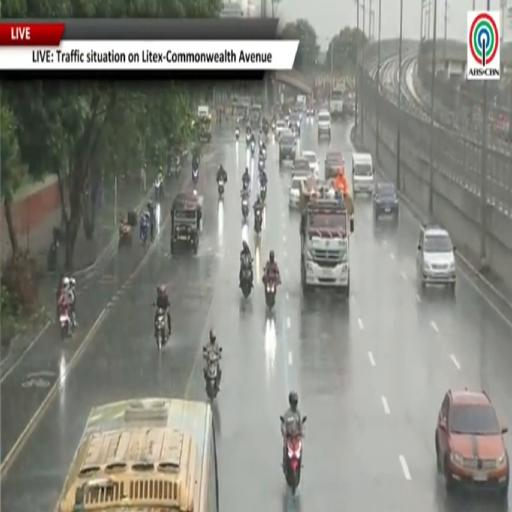bus: (58, 398, 218, 511), (330, 88, 344, 119), (220, 3, 244, 18)
car: (435, 389, 509, 499), (417, 226, 456, 294), (352, 153, 374, 197), (373, 183, 398, 221), (288, 173, 308, 208), (324, 152, 345, 179), (279, 131, 296, 164), (301, 151, 319, 177), (318, 111, 330, 139), (293, 157, 310, 174), (289, 112, 301, 136), (276, 120, 287, 137), (292, 105, 303, 121), (307, 105, 315, 117)
jeepney: (300, 181, 353, 297), (171, 192, 202, 254), (198, 116, 212, 141), (249, 104, 262, 130), (234, 102, 249, 123)
motorcycle: (283, 432, 302, 494), (205, 352, 219, 401), (240, 261, 253, 298), (59, 306, 72, 340), (155, 309, 166, 349), (119, 221, 132, 249), (47, 238, 58, 271), (265, 280, 276, 310), (168, 155, 181, 178), (140, 216, 149, 245), (254, 208, 262, 234), (154, 179, 163, 200), (192, 167, 199, 191), (242, 197, 248, 221), (218, 180, 224, 199), (260, 185, 266, 202), (259, 148, 266, 162), (258, 159, 264, 171), (246, 135, 251, 147), (251, 141, 255, 156), (272, 122, 276, 134), (236, 128, 239, 141)
truck: (300, 184, 353, 298), (197, 105, 209, 118)
